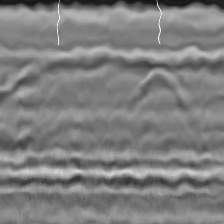Utility: (123, 63, 191, 116)
